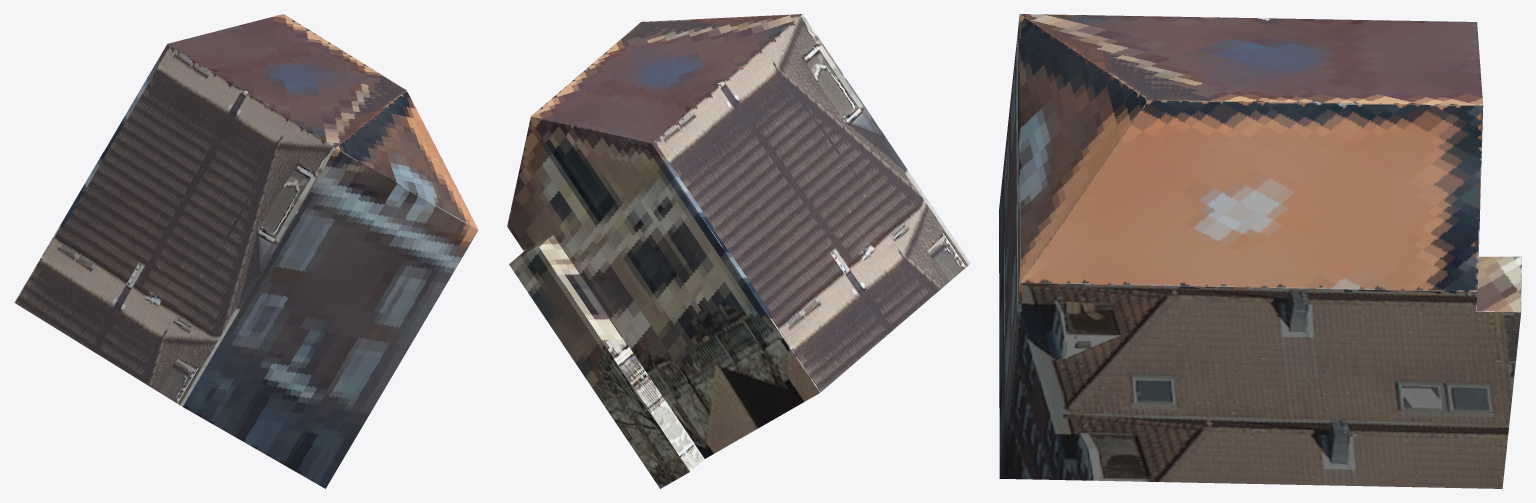
The picture shows the model from 3 angles, left to right: view 1: azimuth 30°, elevation 25°; view 2: azimuth 150°, elevation 25°; view 3: azimuth 270°, elevation 25°; orthographic projection. The views are drawn at different scales.
Visible parts, largest first — view 1: BAG_0599100000675880 (×2); view 2: BAG_0599100000675880 (×4); view 3: BAG_0599100000675880 (×3).
Boxes of the visible parts, left/top/right/bottom form: BAG_0599100000675880 (×2): left=14, top=14, right=478, bottom=488; BAG_0599100000675880 (×4): left=507, top=14, right=970, bottom=488; BAG_0599100000675880 (×3): left=999, top=14, right=1521, bottom=488.
Size of the model in its own units: 13.41 by 14.08 by 13.52.
4 materials, 4 textured.
